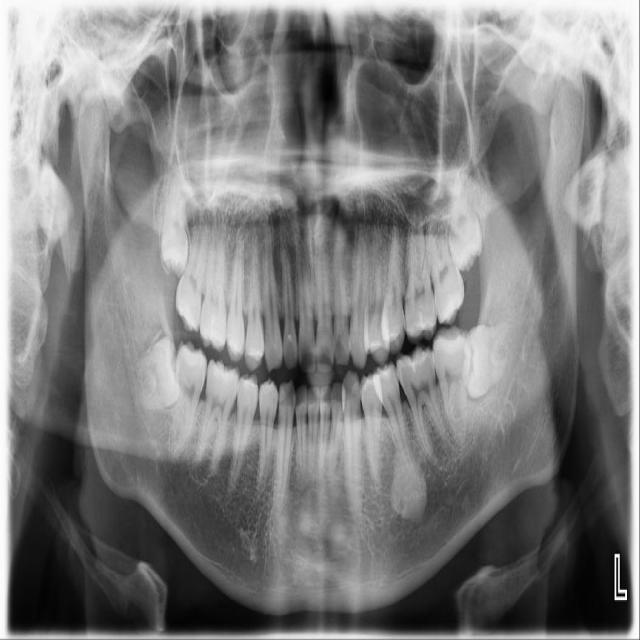3M ESPE Implant: (159, 172, 198, 280)
52: (386, 337, 448, 399), (402, 286, 438, 345), (172, 273, 204, 336), (433, 264, 465, 326), (198, 298, 229, 354), (236, 372, 259, 419), (282, 325, 298, 372)
73: (612, 570, 615, 576)
BioHorizons Implant: (423, 196, 468, 329)
BioLife Implant: (444, 161, 484, 275)
Biomet 3i Implant: (460, 321, 510, 399)
Blue Sky Bio Implant: (429, 325, 472, 444)
Caries: (170, 197, 213, 336)
Implant: (168, 339, 210, 464)
Keystone Dental Implant: (130, 334, 186, 414)
